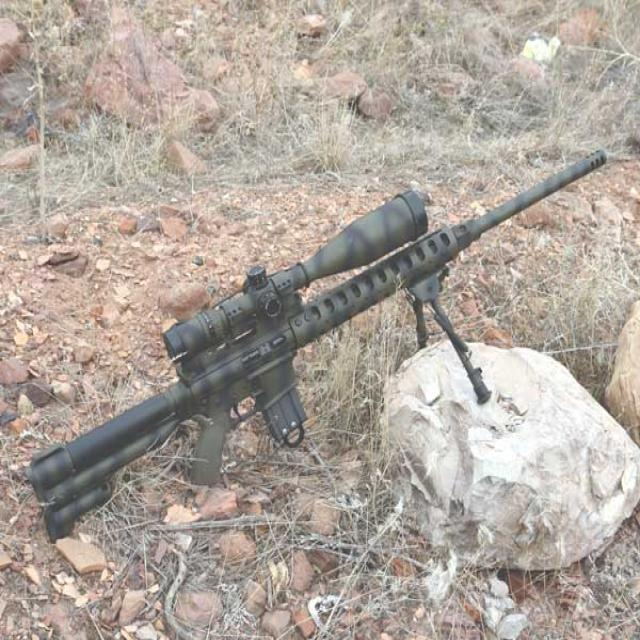Rifle: (28, 152, 607, 545)
